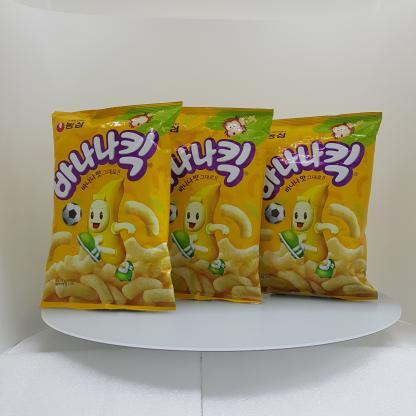Plastic Packaging: (34, 95, 182, 311), (270, 109, 386, 297), (180, 104, 272, 302)
